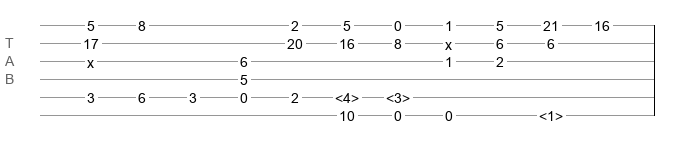0: (240, 90, 248, 100), (394, 18, 402, 28), (394, 108, 402, 118), (445, 108, 453, 118)
1: (445, 54, 453, 64), (445, 18, 453, 28)
10: (339, 108, 355, 118)
16: (339, 36, 355, 46), (594, 18, 610, 28)
17: (83, 36, 99, 46)
2: (291, 90, 299, 100), (291, 18, 299, 28), (496, 54, 504, 64)
20: (287, 36, 303, 46)
21: (543, 18, 559, 28)
3: (87, 90, 95, 100), (189, 90, 197, 100)
5: (87, 18, 95, 28), (240, 72, 248, 82), (343, 18, 351, 28), (496, 18, 504, 28)
6: (138, 90, 146, 100), (240, 54, 248, 64), (496, 36, 504, 46), (547, 36, 555, 46)
8: (138, 18, 146, 28), (394, 36, 402, 46)
harmonic: (335, 90, 359, 100), (386, 90, 410, 100), (539, 108, 563, 118)
x: (87, 55, 94, 63), (445, 37, 452, 45)
